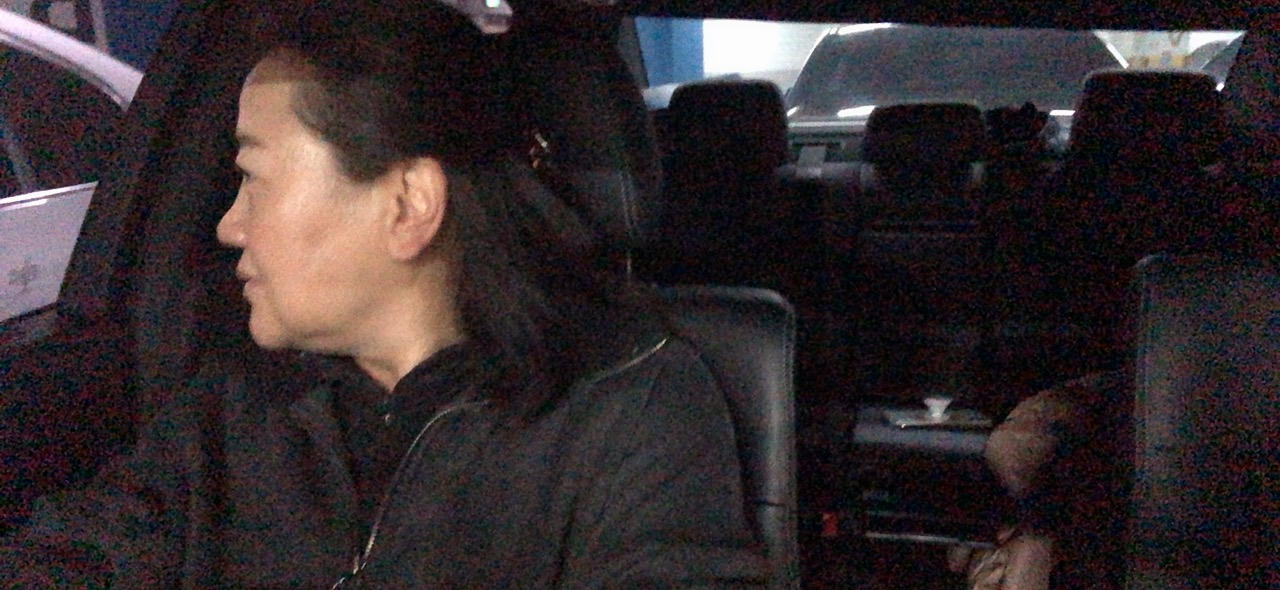left: (157, 52, 556, 440)
